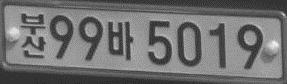0: (175, 20, 202, 68)
1: (207, 22, 234, 69)
5: (147, 19, 172, 65)
9: (236, 23, 263, 70), (77, 15, 103, 61), (48, 14, 74, 59)
바: (107, 20, 134, 60)
부산_V: (20, 12, 46, 58)
